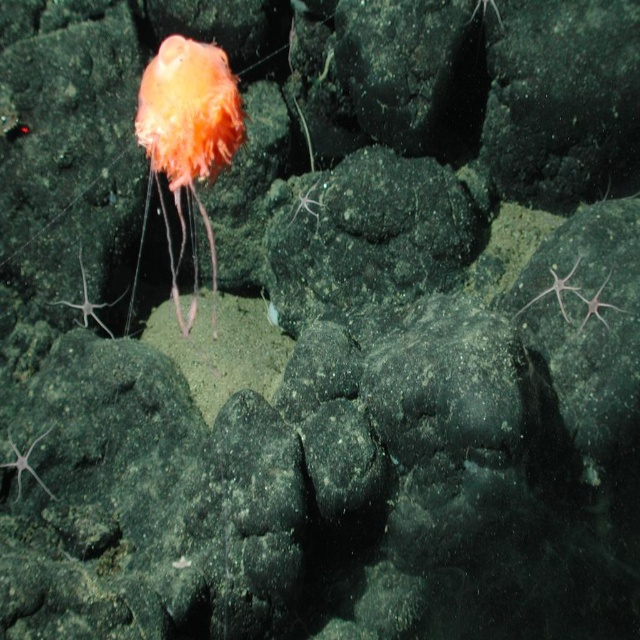Jellyfish: (112, 34, 247, 305)
